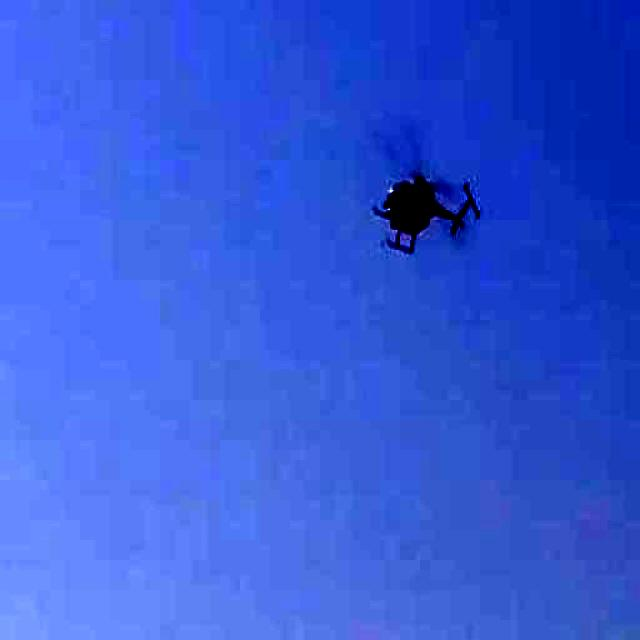drone: (331, 75, 508, 321)
